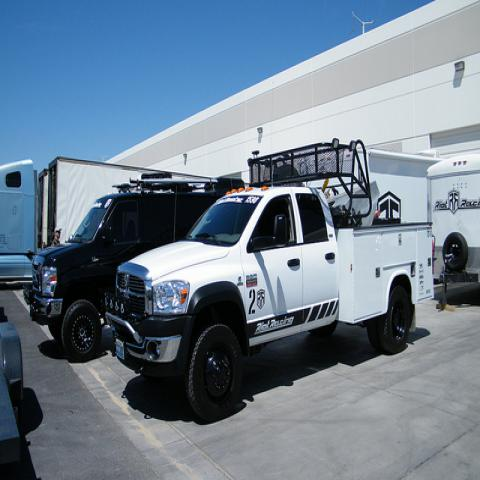truck: (100, 134, 442, 424), (24, 171, 247, 359), (2, 152, 184, 288)
